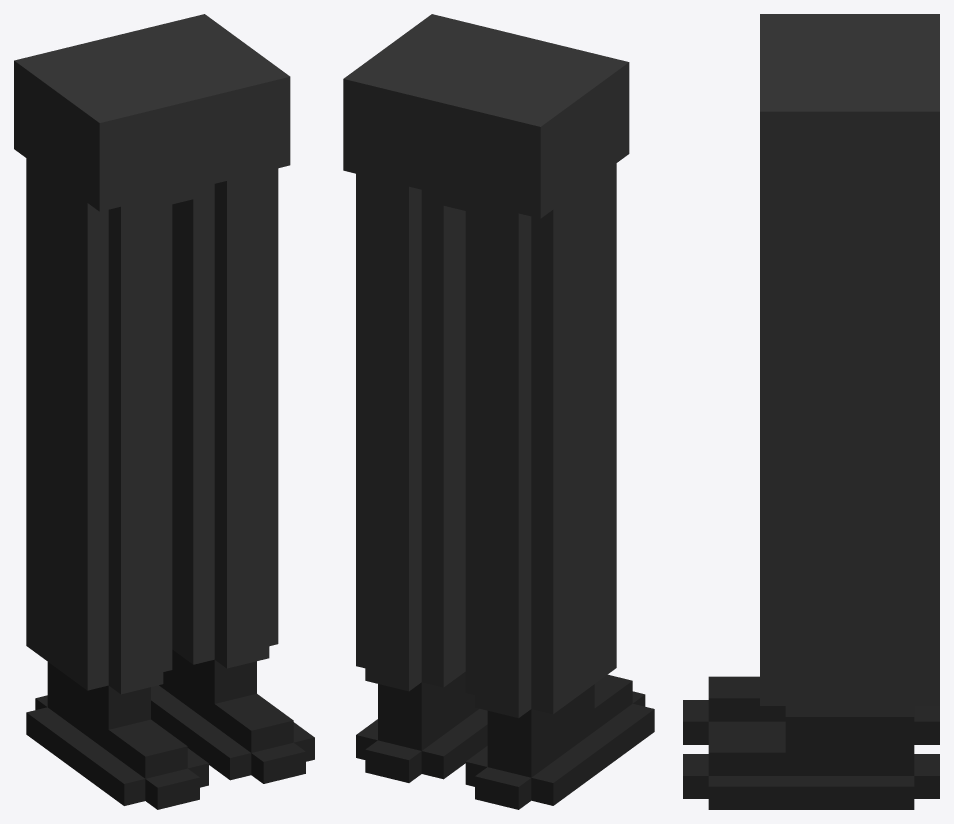
The model's file is legs_still_001.obj.
3 views of the same model, side by side, from view 1: azimuth 30°, elevation 25°; view 2: azimuth 150°, elevation 25°; view 3: azimuth 270°, elevation 25° (orthographic). The views are drawn at different scales.
Size of the model in its own units: 9 by 30 by 10.
1 material, 1 textured.
